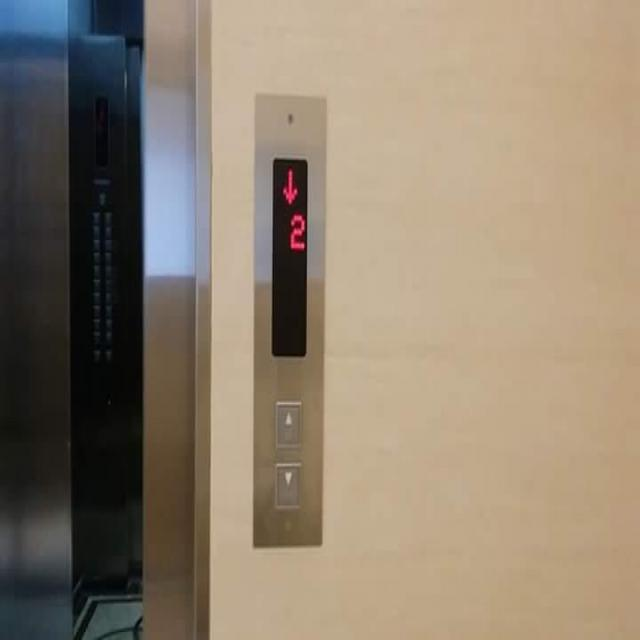down: (274, 460, 301, 508)
led: (268, 152, 307, 359), (93, 98, 109, 166)
up: (274, 400, 301, 447)
